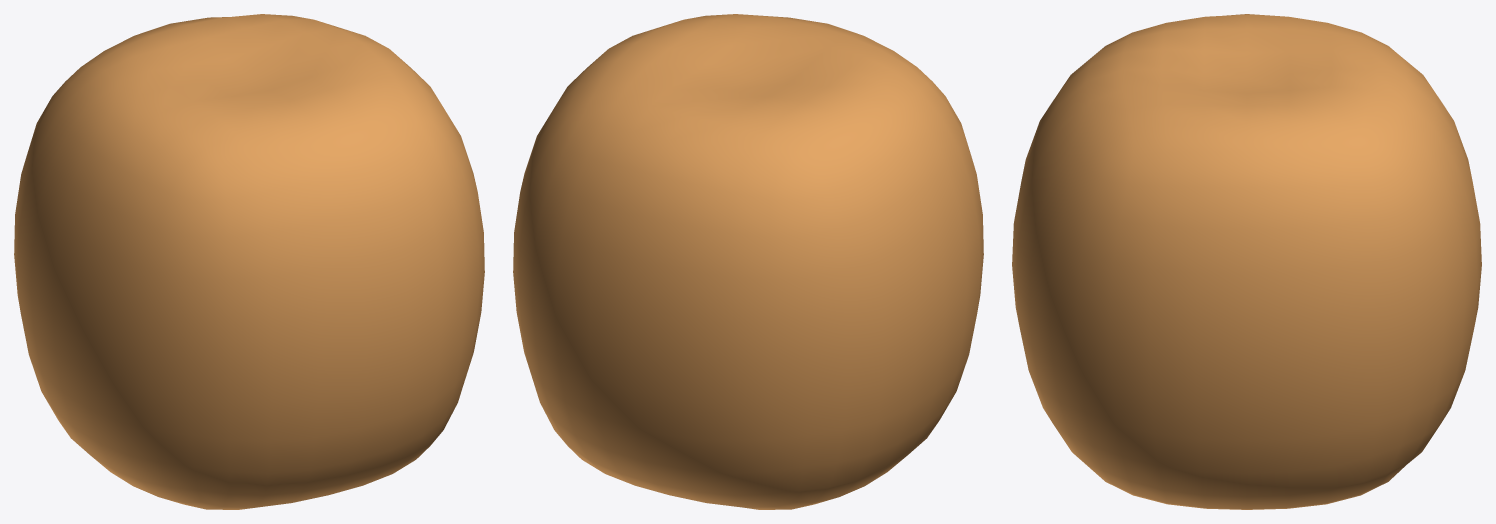
The model's file is Bush_F_02.fbx.
The picture shows the model from 3 angles, left to right: view 1: azimuth 30°, elevation 25°; view 2: azimuth 150°, elevation 25°; view 3: azimuth 270°, elevation 25°; orthographic projection.
Parts seen in each view (by area): view 1: Bush_F_02_LOD0; view 2: Bush_F_02_LOD0; view 3: Bush_F_02_LOD0.
Part boxes in pixels (x1,y1,x2,y2): Bush_F_02_LOD0: (14,14,484,509); Bush_F_02_LOD0: (513,14,983,509); Bush_F_02_LOD0: (1012,14,1481,509).
Size of what is drawn, in the model's own units: 448 by 430 by 460.
